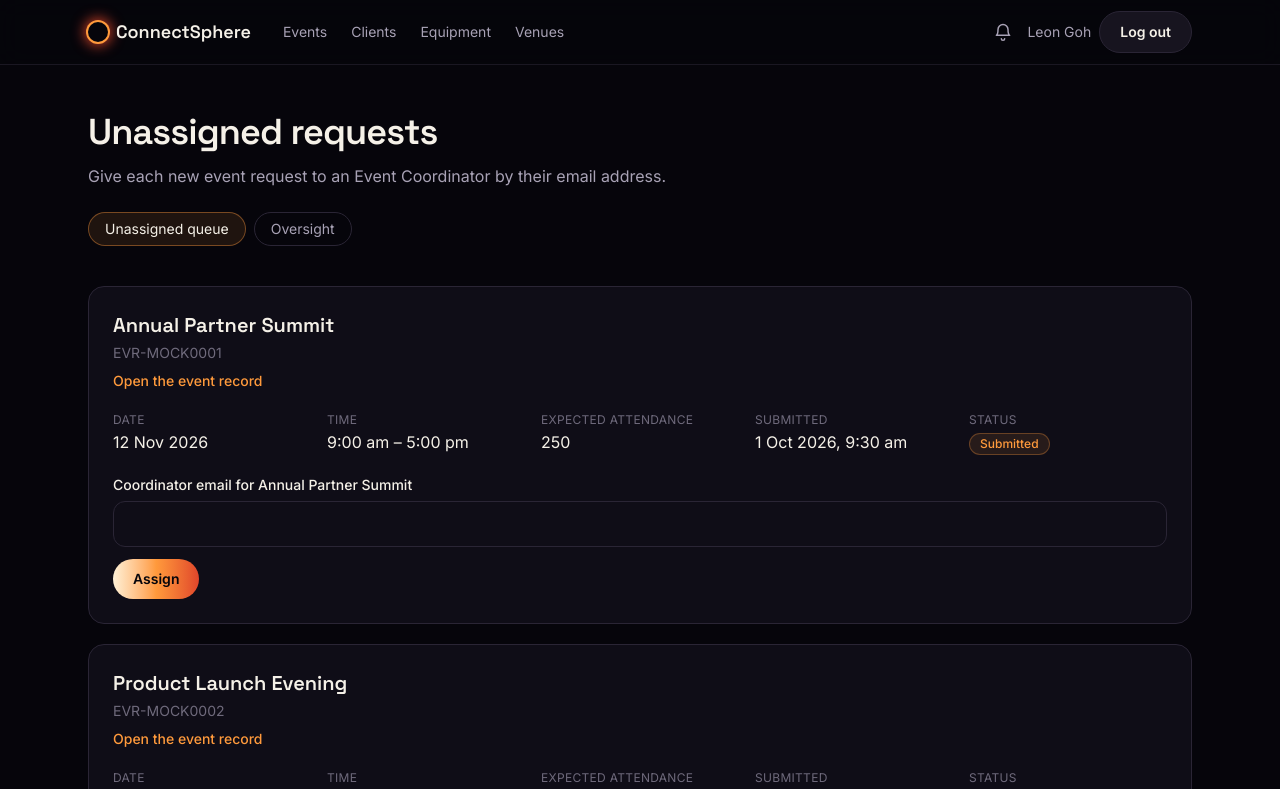
Test: SCRUM-95 the Lead queue screen › shows the backend message in an alert when the assignment fails for another reason
This screenshot has width=1280, height=789.
Type "chloe@connectsphere.test" into the field labelled "Coordinator email for Annual Partner Summit".
click(640, 524); type("chloe@connectsphere.test")  # box [113,501,1167,547]
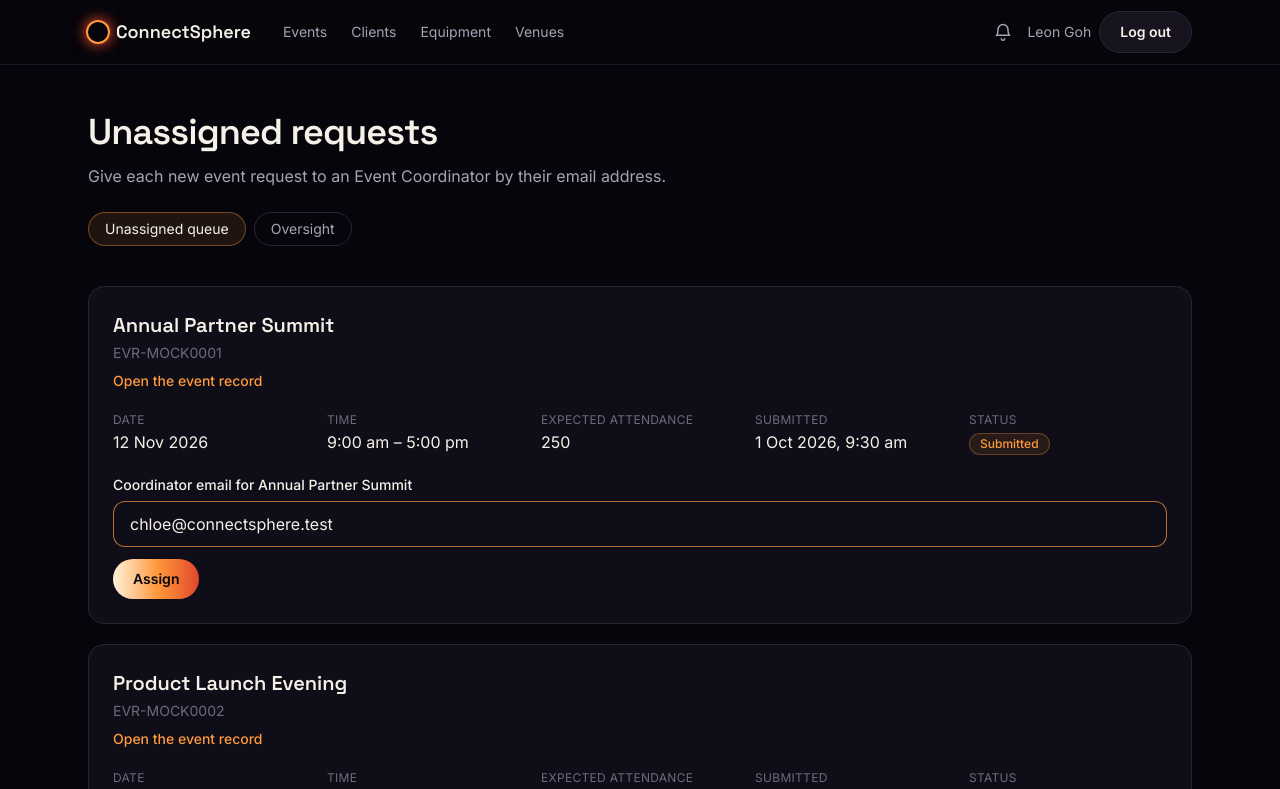
Click the button "Assign".
click(156, 579)  # box [113,559,200,599]
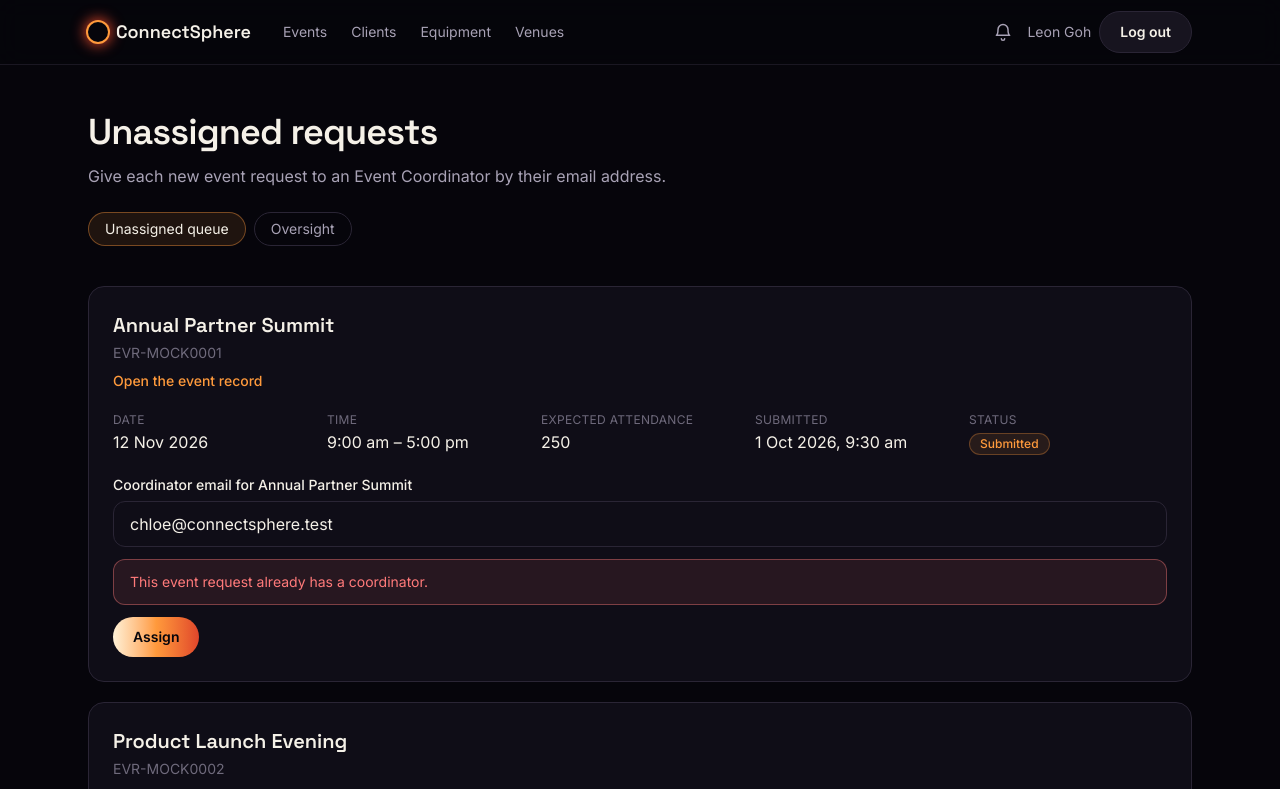
Check: the message reads "This event request already has a coordinator.", box [130,573,428,590]
Check: the number of messages is 1, box [113,559,1167,605]
